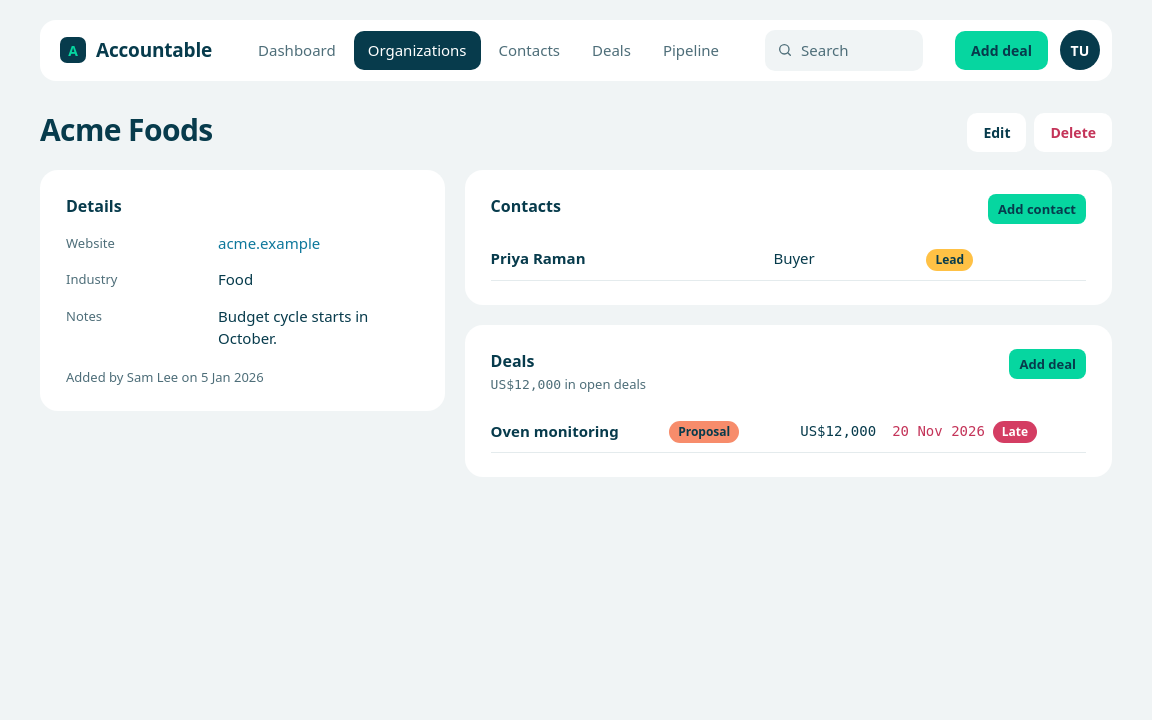
Test: deleting goes back to the organizations
Later steps or results of the test are not shown.
Click the button "Delete" at coordinates (1073, 132), box [1034, 112, 1112, 152]
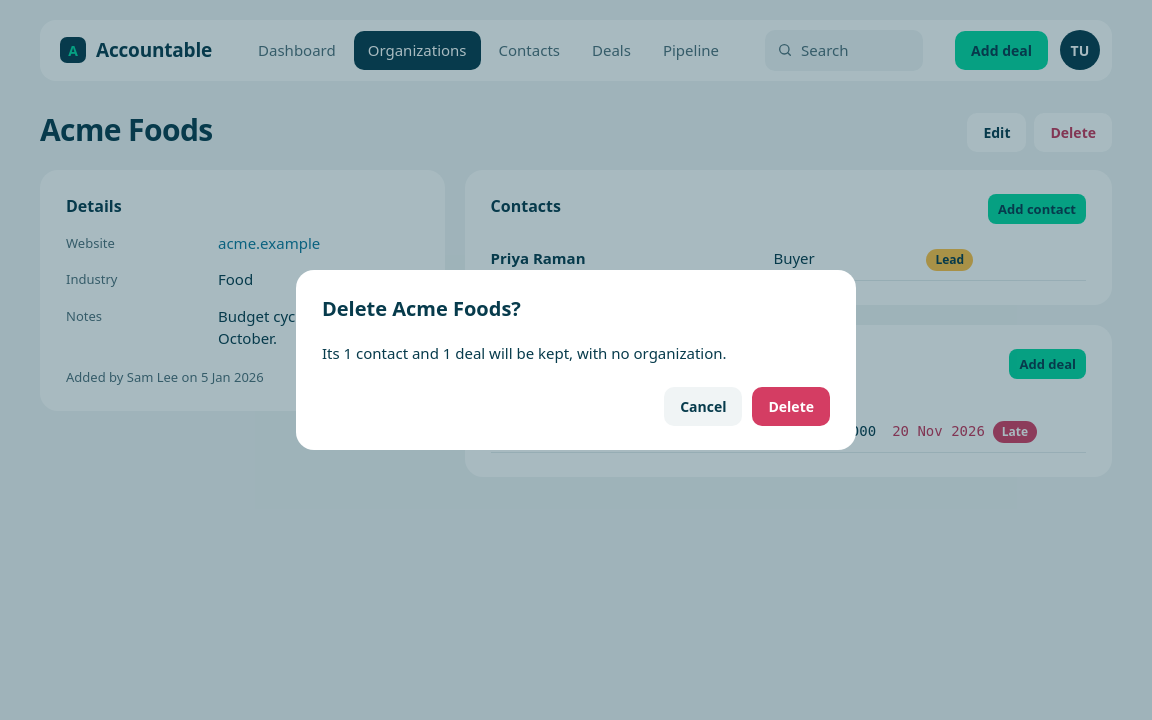
Now the text "Its 1 contact and 1 deal will be kept, with no organization." is shown, box [322, 343, 726, 363]
